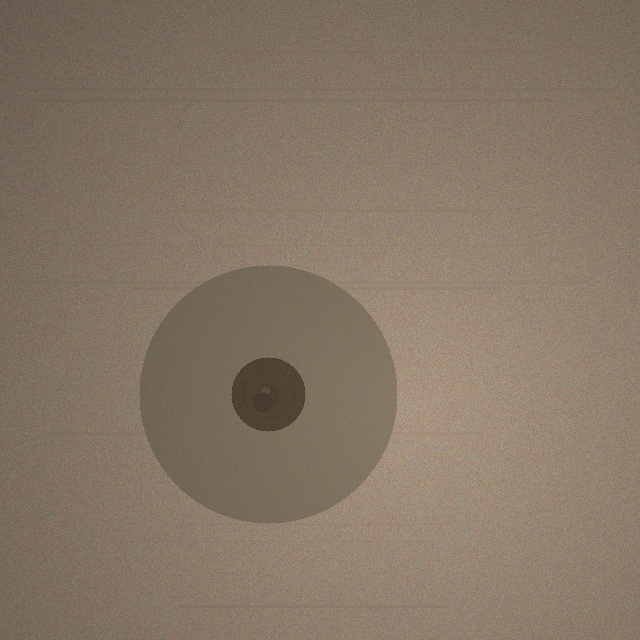cold_weld: (139, 265, 397, 523)
